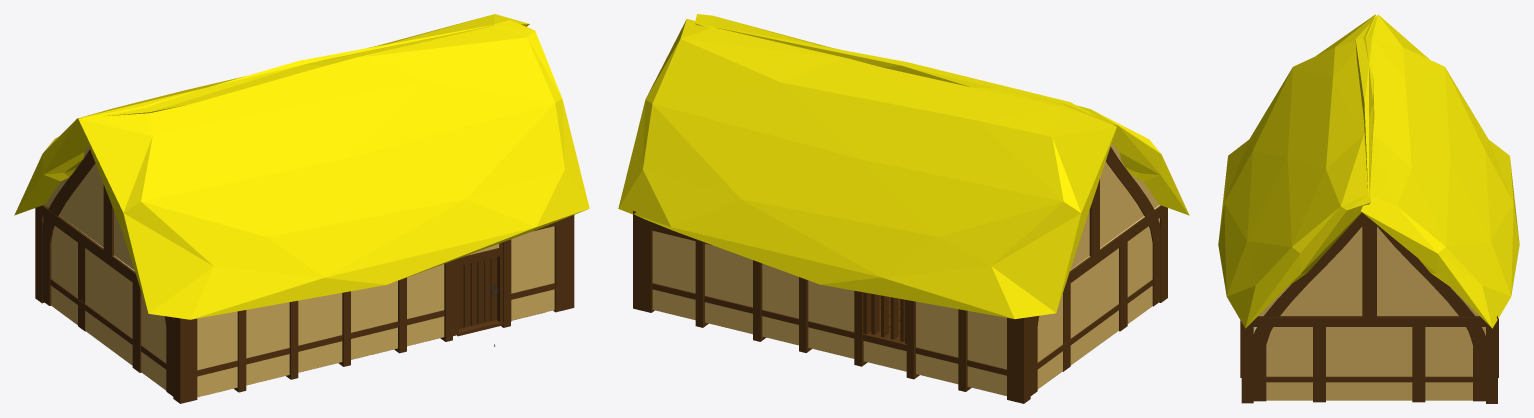
Rendered from CasaMedieval.fbx.
3 views of the same model, side by side, from view 1: azimuth 30°, elevation 25°; view 2: azimuth 150°, elevation 25°; view 3: azimuth 270°, elevation 25° (orthographic). The views are drawn at different scales.
Parts seen in each view (by area): view 1: Icosphere.001, Cube.026, Cube.020, Icosphere.002, Cube.004, Cube.023, Cube.072, Cube.009, Cube.003, Cube.057, Cube.063, Cube.051 (+8 smaller); view 2: Icosphere.002, Cube.019, Cube.020, Icosphere.001, Cube.004, Cube.009, Cube.045, Cube.003, Cube.049, Cube.050, Cube.047, Cube.044 (+5 smaller); view 3: Icosphere.002, Icosphere.001, Cube.024, Cube.003, Cube.061, Cube.059, Cube.062.
Boxes of the visible parts, box(x1,y1,x2,y2) form: Icosphere.001: box(78, 20, 589, 319); Cube.026: box(197, 264, 444, 397); Cube.020: box(44, 146, 166, 390); Icosphere.002: box(14, 14, 529, 215); Cube.004: box(35, 185, 197, 403); Cube.023: box(511, 226, 554, 320); Cube.072: box(459, 257, 497, 328); Cube.009: box(42, 149, 173, 396); Cube.003: box(553, 215, 574, 312); Cube.057: box(197, 310, 444, 376); Cube.063: box(132, 283, 141, 372); Cube.051: box(234, 310, 246, 392); Icosphere.002: box(618, 19, 1116, 319); Cube.019: box(652, 231, 1006, 395); Cube.020: box(1037, 143, 1160, 389); Icosphere.001: box(695, 14, 1189, 215); Cube.004: box(1007, 179, 1167, 403); Cube.009: box(1030, 146, 1160, 395); Cube.045: box(652, 283, 1006, 375); Cube.003: box(633, 211, 654, 312); Cube.049: box(695, 239, 708, 327); Cube.050: box(958, 309, 971, 391); Cube.047: box(753, 260, 765, 341); Cube.044: box(906, 300, 919, 379); Icosphere.002: box(1355, 14, 1519, 328); Icosphere.001: box(1218, 14, 1375, 328); Cube.024: box(1259, 226, 1485, 400); Cube.003: box(1241, 212, 1497, 403); Cube.061: box(1266, 376, 1472, 382); Cube.059: box(1412, 327, 1425, 402); Cube.062: box(1313, 327, 1325, 402).
Bounding box in the file's own units: 11.81 × 6.66 × 7.85.
132 materials, 1 textured.
